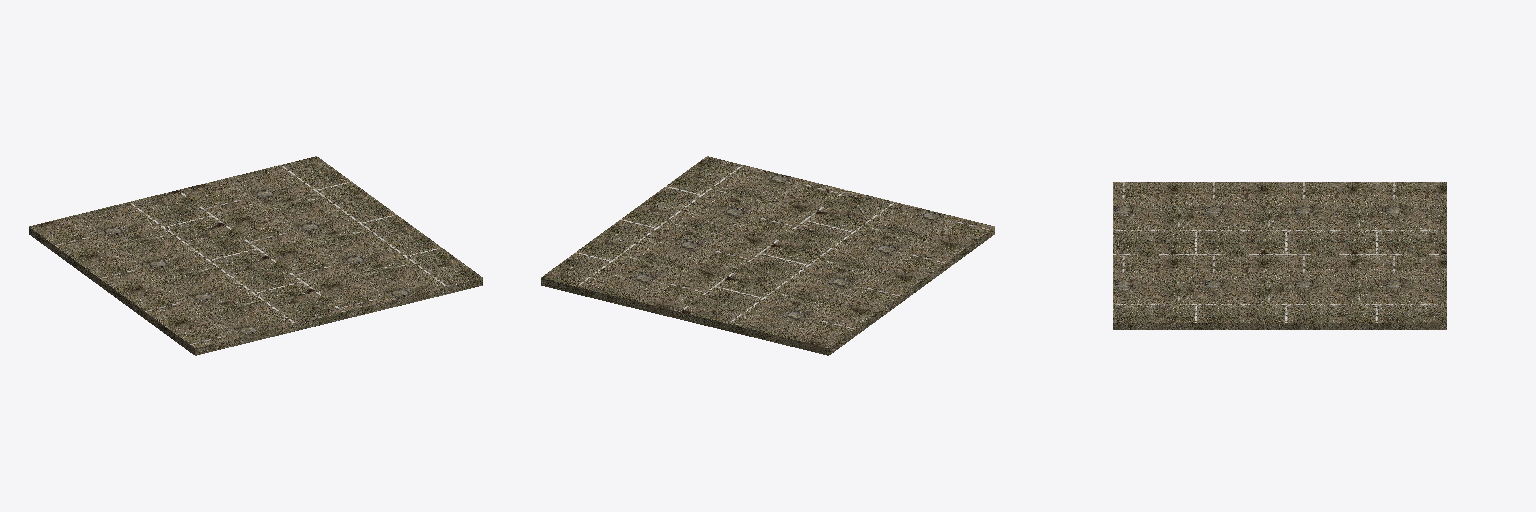
The picture shows the model from 3 angles: view 1: azimuth 30°, elevation 25°; view 2: azimuth 150°, elevation 25°; view 3: azimuth 270°, elevation 25°; orthographic projection.
Parts seen in each view (by area): view 1: Box001; view 2: Box001; view 3: Box001.
Boxes of the visible parts, <box> form: Box001: <box>29,156,482,355</box>; Box001: <box>541,156,994,355</box>; Box001: <box>1113,182,1446,329</box>.
Size of the model in its own units: 20 by 0.5 by 20.
1 materials, 1 textured.